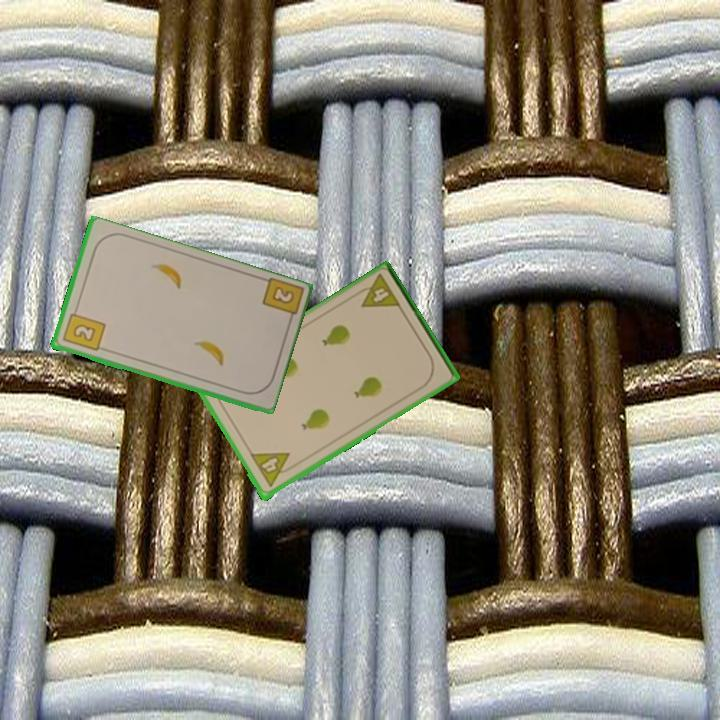2b: (59, 304, 108, 354), (258, 275, 304, 328)
4p: (247, 449, 298, 491), (351, 271, 403, 311)
